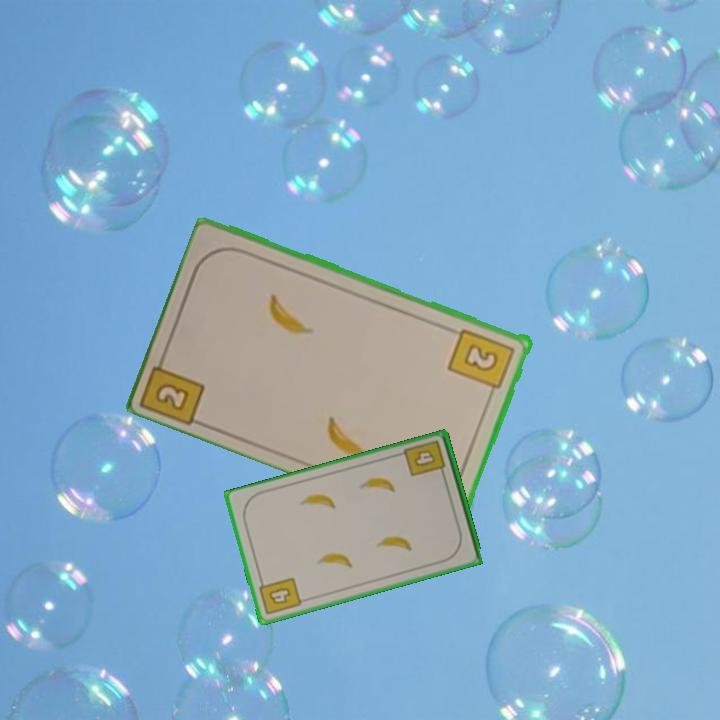2b: (445, 324, 518, 400), (140, 347, 209, 427)
4b: (256, 574, 304, 618), (401, 437, 448, 481)
